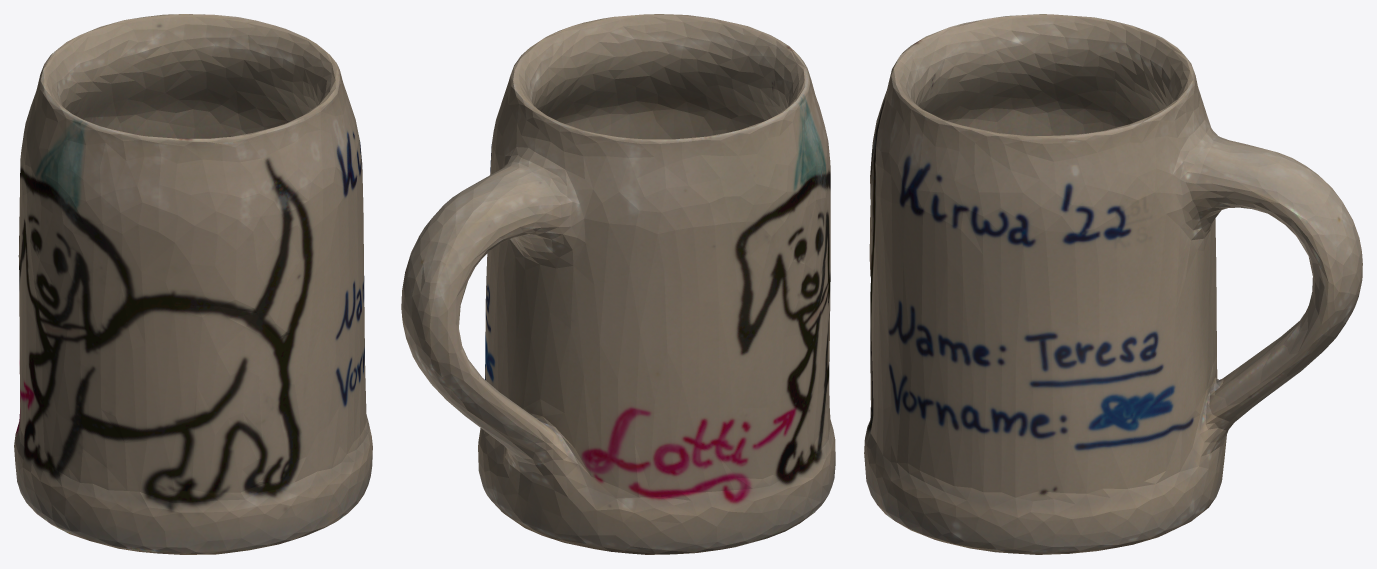
File: 44633EA0-9CBD-D74C-B96C-1A5EFD30CE3C_2k.glb
3 views of the same model, side by side, from view 1: azimuth 30°, elevation 25°; view 2: azimuth 150°, elevation 25°; view 3: azimuth 270°, elevation 25° (orthographic).
Parts seen in each view (by area): view 1: Krug Hund_5k_2k; view 2: Krug Hund_5k_2k; view 3: Krug Hund_5k_2k.
Part boxes in pixels (left/top/right/bottom): Krug Hund_5k_2k: left=14, top=14, right=372, bottom=554; Krug Hund_5k_2k: left=401, top=14, right=835, bottom=554; Krug Hund_5k_2k: left=864, top=14, right=1362, bottom=554.
Size of the model in its own units: 0.1001 by 0.1261 by 0.1387.
Materials: 1 (1 with a texture image).
